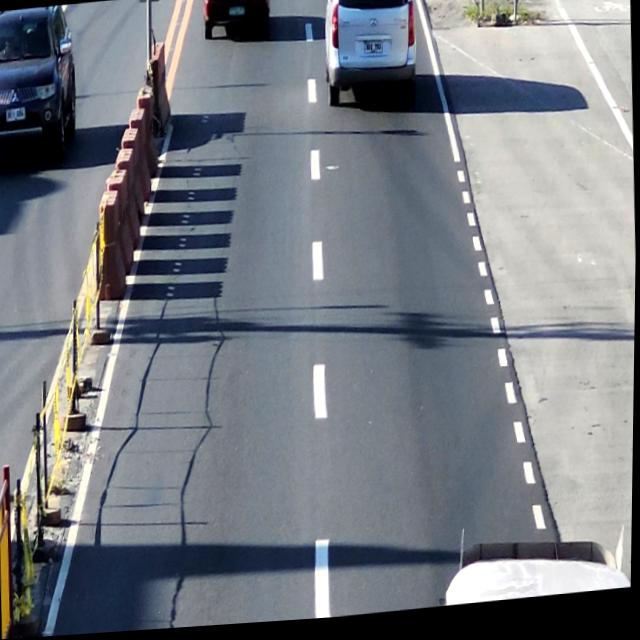Car: (320, 0, 422, 114), (200, 0, 276, 49)
Jeep: (440, 513, 634, 613)
License-Plate: (362, 44, 384, 62), (227, 8, 246, 19)
